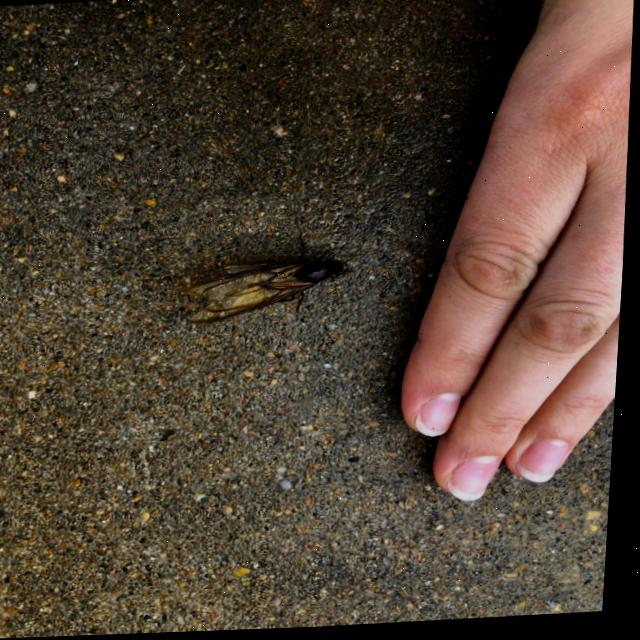Alive-Female-Alate: (179, 230, 364, 327)
